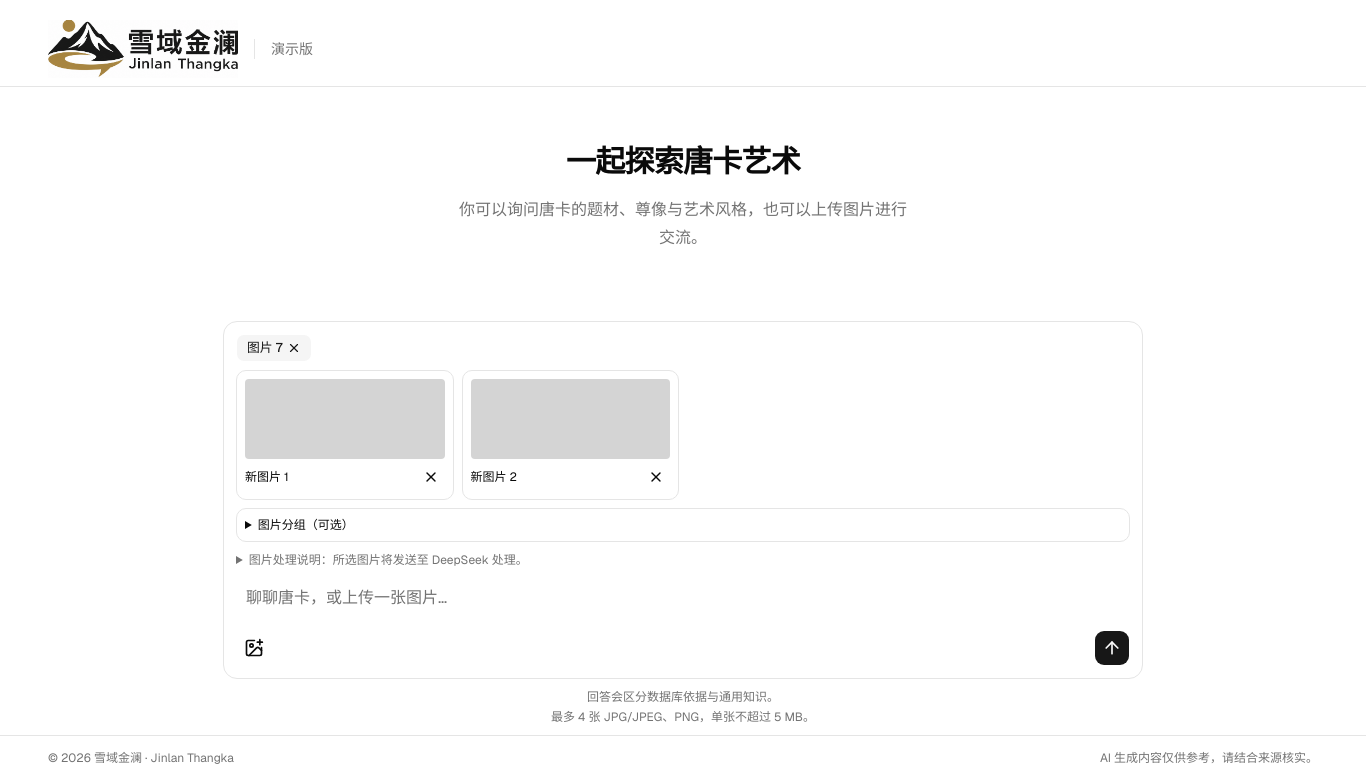
uses the same new-picture numbering in the preview and grouping after selected history
Click the heading "图片分组（可选）" at (306, 525), box [258,517,354,533]
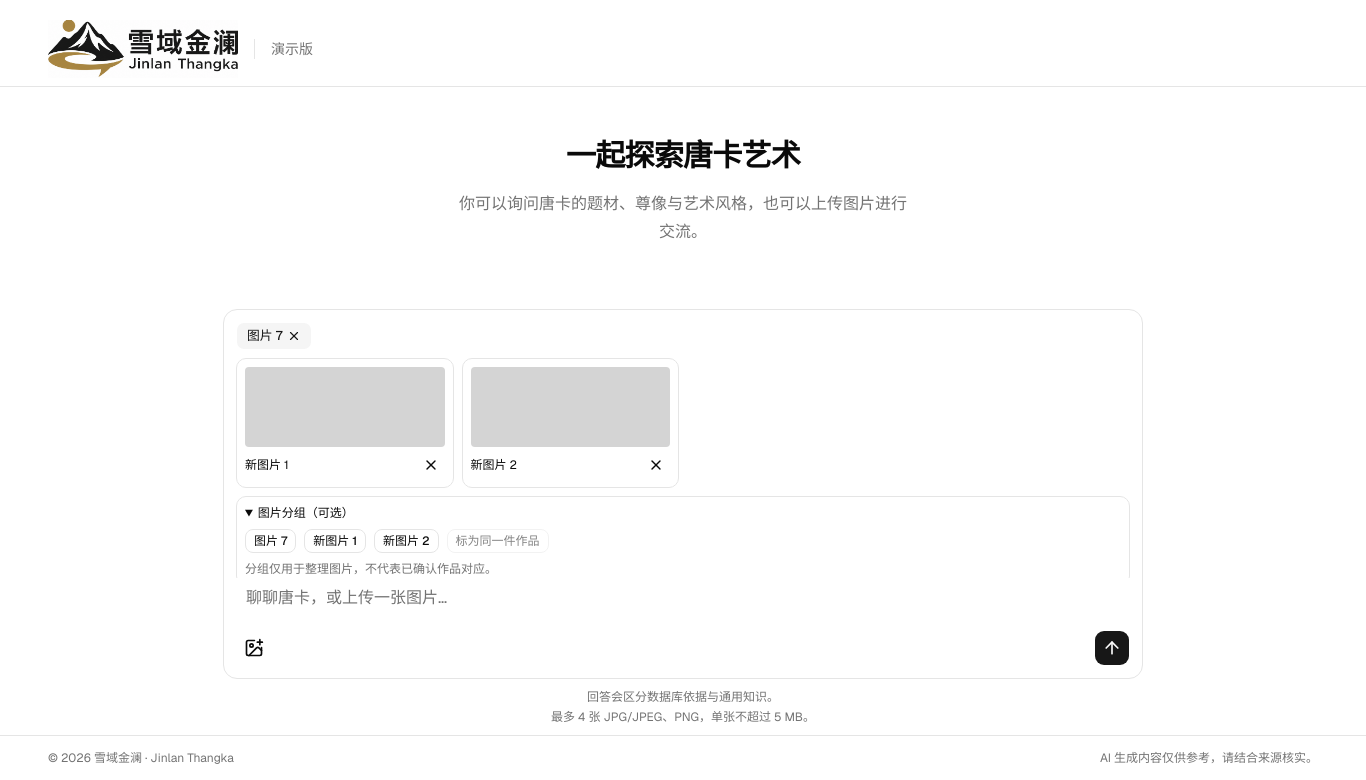
Expected: the button with aria-label "选择分组：新图片 2" is shown, [374,529,439,553]
